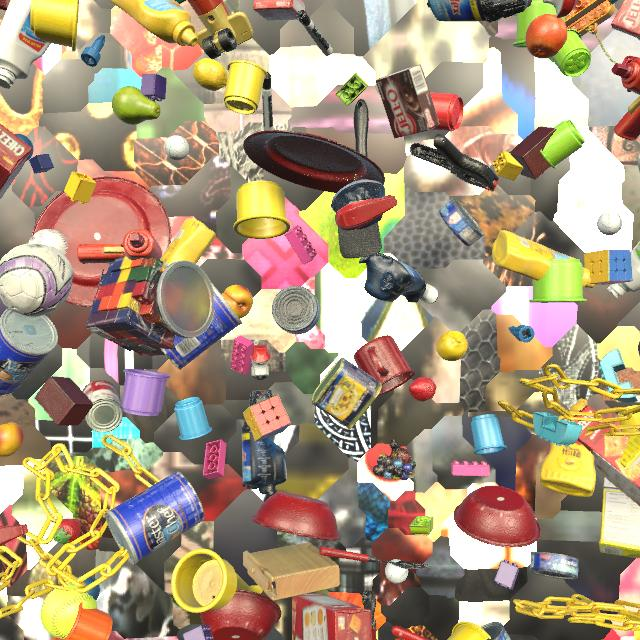ycb_002_master_chef_can: (105, 471, 205, 565), (160, 282, 242, 370), (0, 308, 58, 396)
ycb_003_cracker_box: (570, 405, 640, 506), (292, 593, 372, 640), (0, 123, 32, 199)
ycb_004_sugar_box: (599, 477, 640, 559), (620, 428, 640, 469)
ycb_005_tomato_soup_can: (83, 380, 123, 433)
ycb_006_mustard_bottle: (492, 230, 595, 288), (540, 399, 596, 497), (109, 0, 198, 47), (160, 218, 216, 272)
ycb_007_tuna_fish_can: (272, 286, 321, 334), (439, 198, 484, 247), (530, 552, 579, 580), (481, 622, 511, 640)
ycb_008_pudding_box: (376, 65, 439, 138)
ycb_009_gelatin_box: (611, 0, 640, 39), (253, 0, 305, 21)
ycb_010_potted_meat_can: (312, 358, 382, 430)
ycb_012_strawberry: (53, 518, 81, 545), (409, 377, 436, 401)
ycb_014_lemon: (193, 58, 228, 91), (436, 331, 468, 361)
ycb_015_peach: (222, 285, 253, 318), (0, 422, 24, 457)
ycb_016_pear: (112, 86, 161, 125)
ycb_017_orange: (525, 14, 567, 59), (57, 639, 65, 640)
ycb_018_plum: (638, 342, 640, 356)
